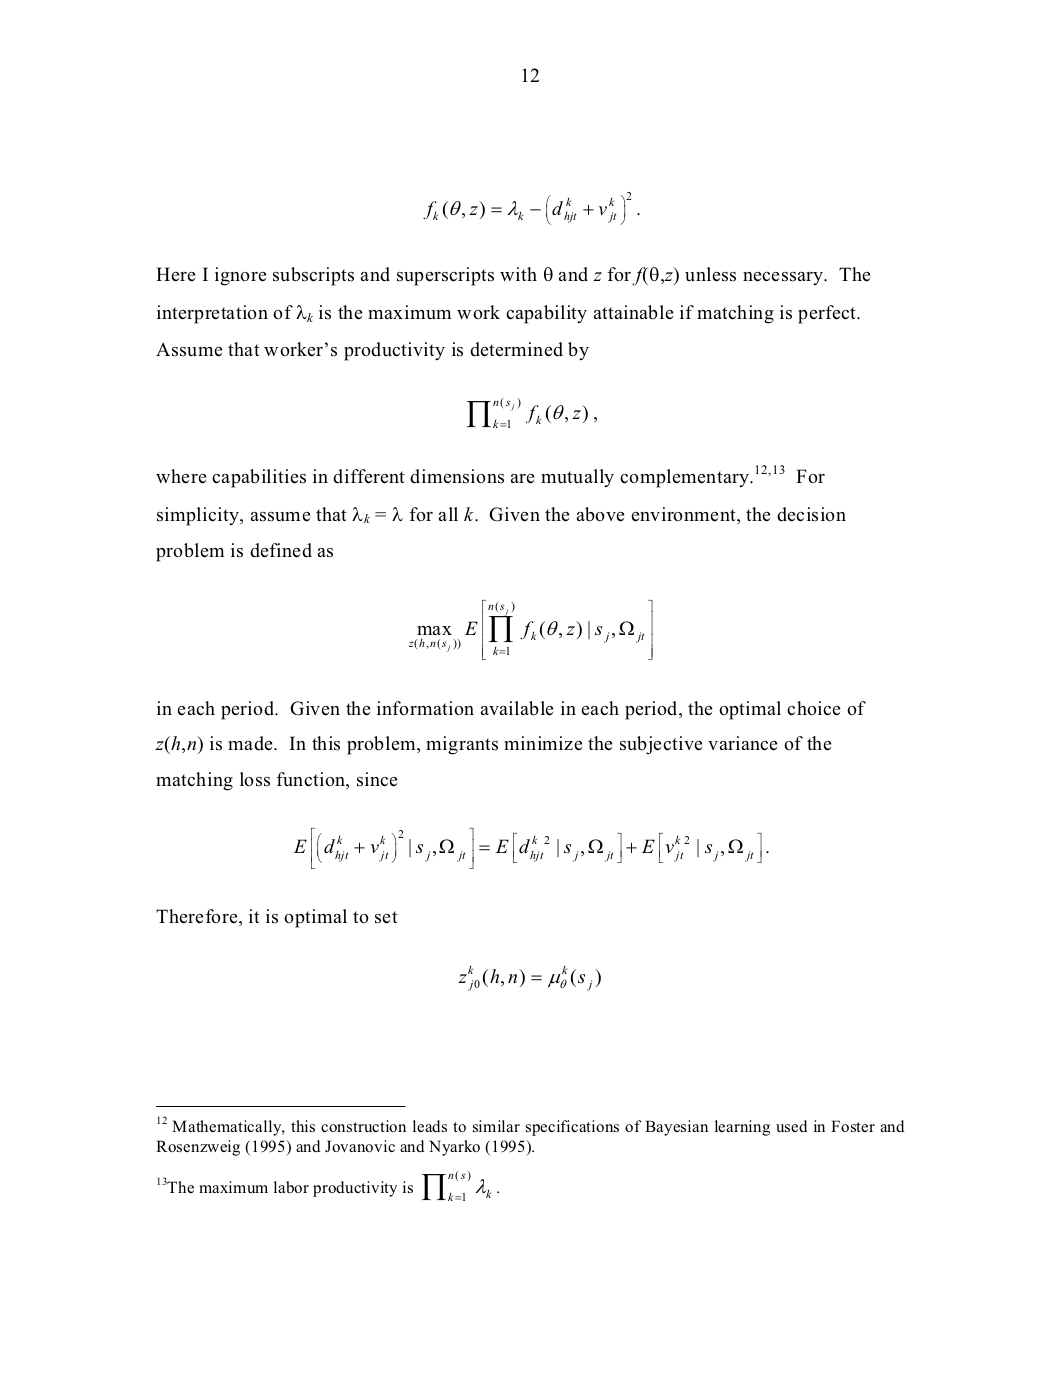formula: (293, 826, 768, 869), (408, 598, 652, 660), (424, 191, 639, 225), (466, 396, 596, 428), (458, 964, 600, 991)
